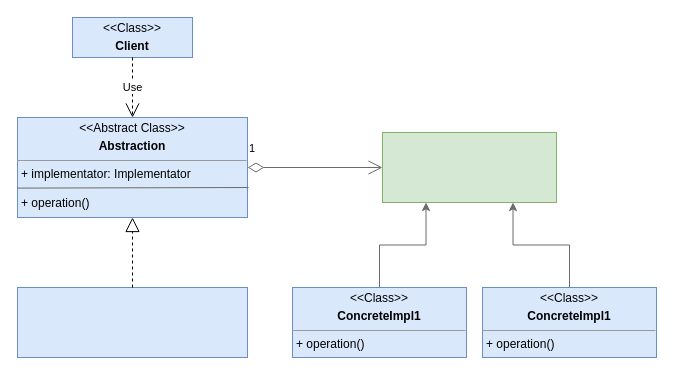
Some shapes in this 674 by 375 pixel diagram are drawn without their labels. Each missing label, with the centre of its shape:
<<Class>> RefinedAbstraction ...: (132,322)
<<Interface>> Implementator + operation(): (469,167)
